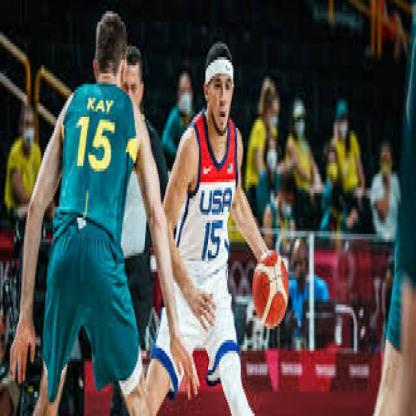basketball: (253, 248, 289, 330)
